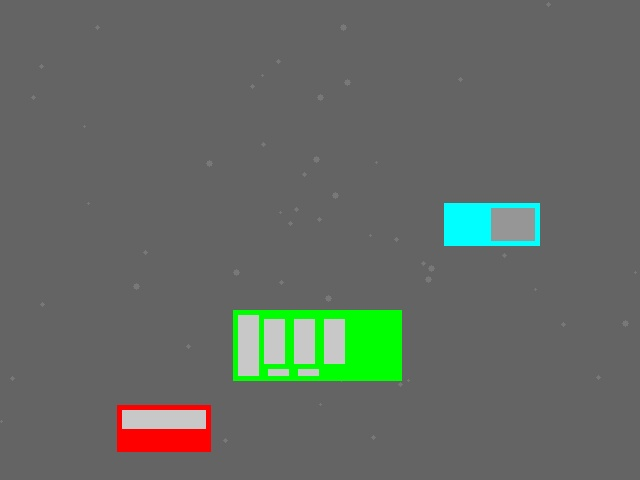bus: (233, 310, 401, 380), (259, 314, 390, 368)
car: (117, 405, 210, 451)
truck: (444, 203, 539, 245)
